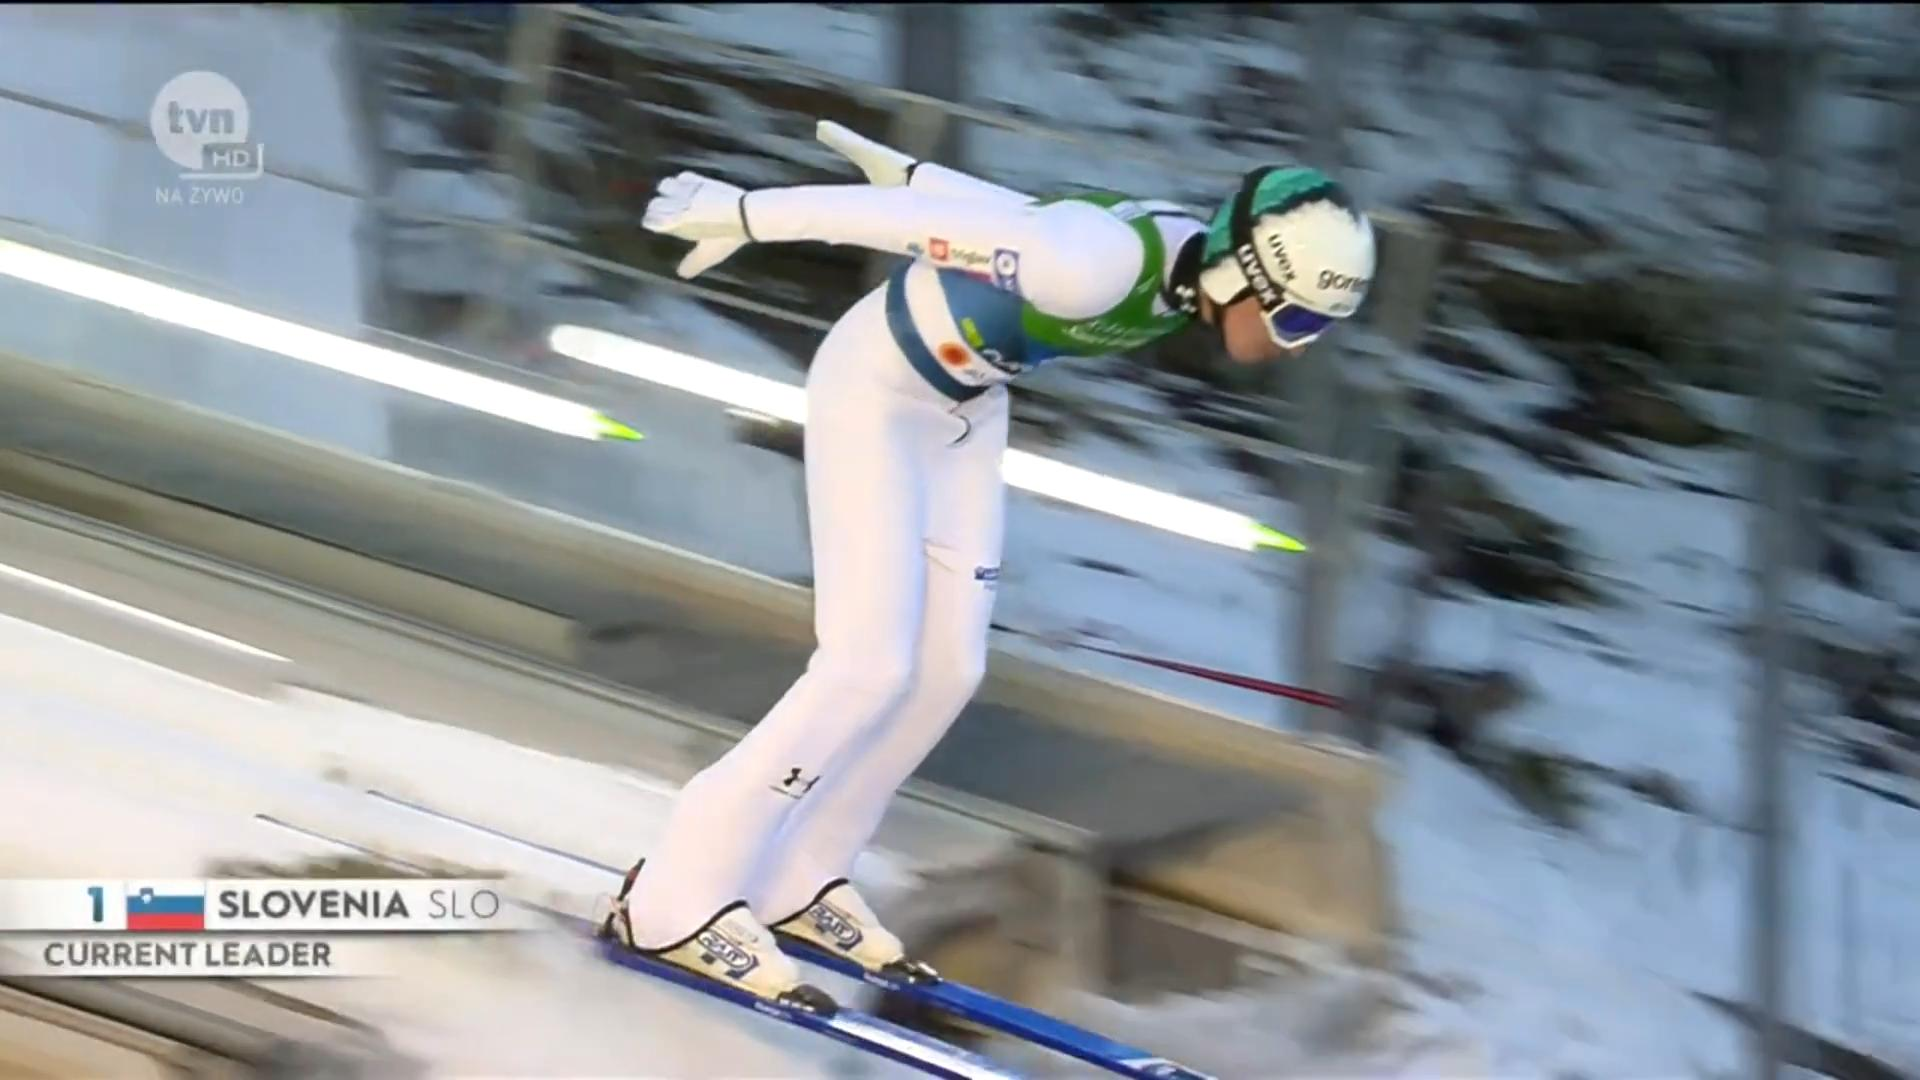prog: (980, 795, 1305, 878)
